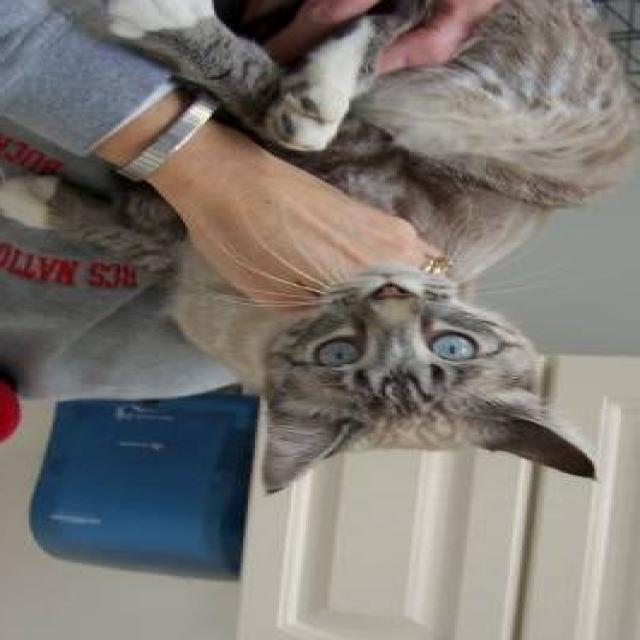Kucing: (9, 27, 638, 525)
